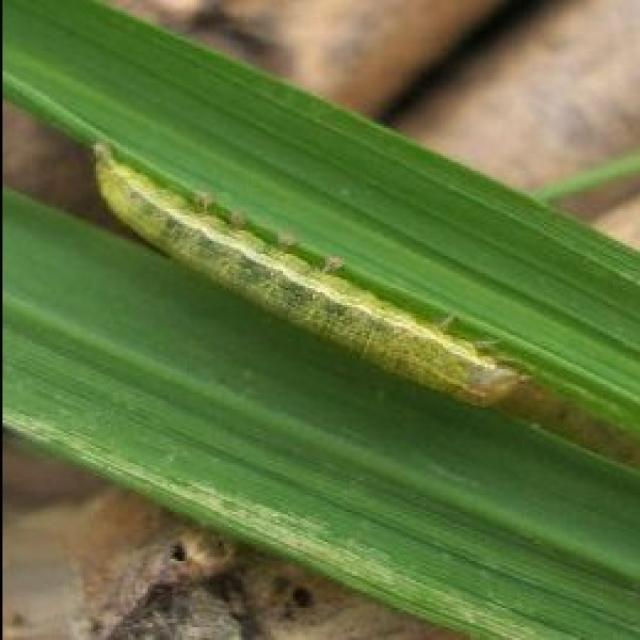army worm: (83, 132, 534, 420)
